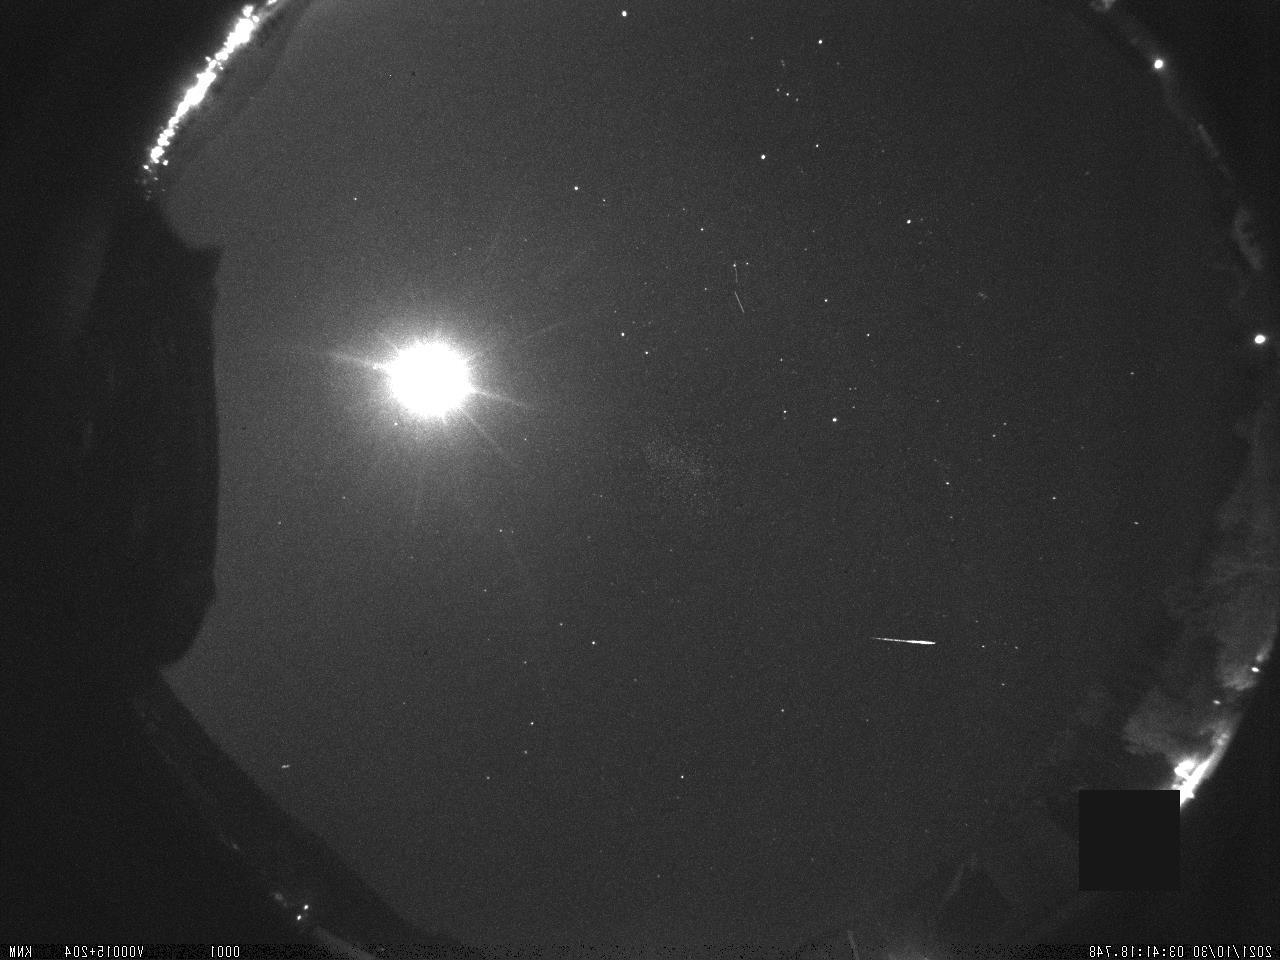meteor: (865, 621, 958, 674)
